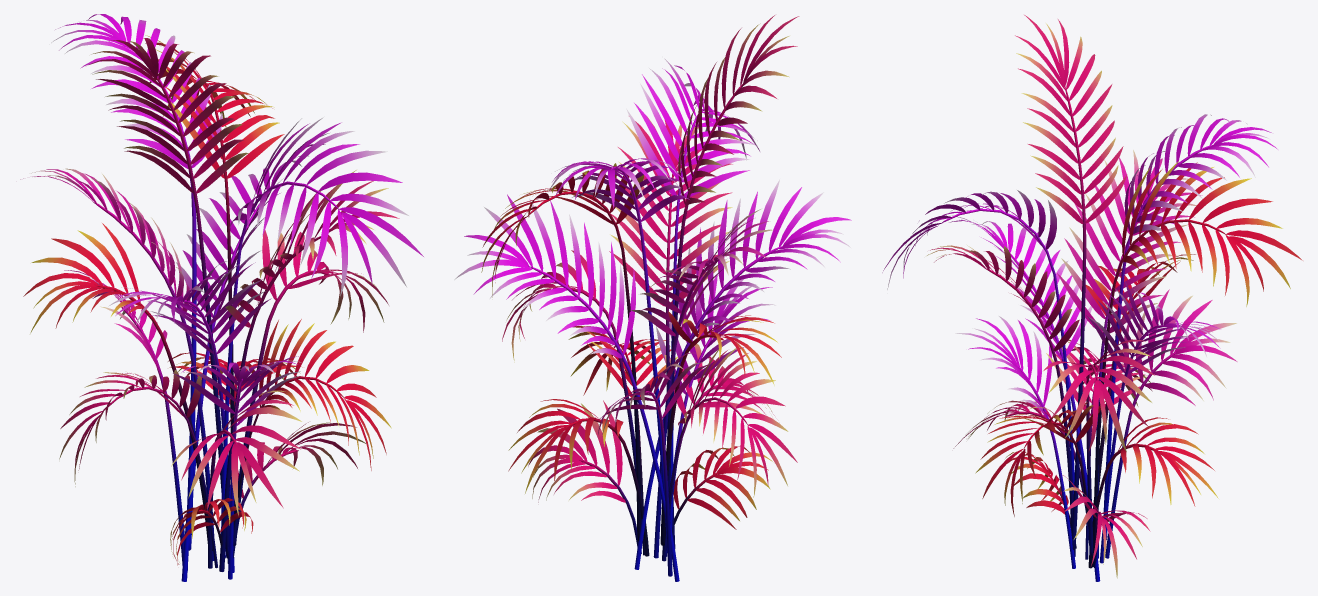
File: Palm2.FBX
3 views of the same model, side by side, from view 1: azimuth 30°, elevation 25°; view 2: azimuth 150°, elevation 25°; view 3: azimuth 270°, elevation 25° (orthographic). The views are drawn at different scales.
Visible parts, largest first — view 1: Object160; view 2: Object160; view 3: Object160.
Part boxes in pixels (x1=…): Object160: x1=20, y1=14, x2=423, y2=581; Object160: x1=454, y1=15, x2=851, y2=581; Object160: x1=882, y1=15, x2=1302, y2=581.
Bounding box in the file's own units: 0.711 × 0.9435 × 1.26.
